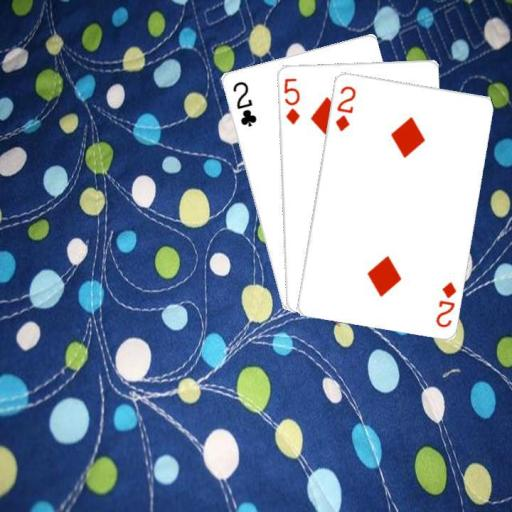2C: (229, 78, 258, 128)
2D: (332, 82, 357, 132), (433, 279, 458, 329)
5D: (280, 75, 302, 125)
